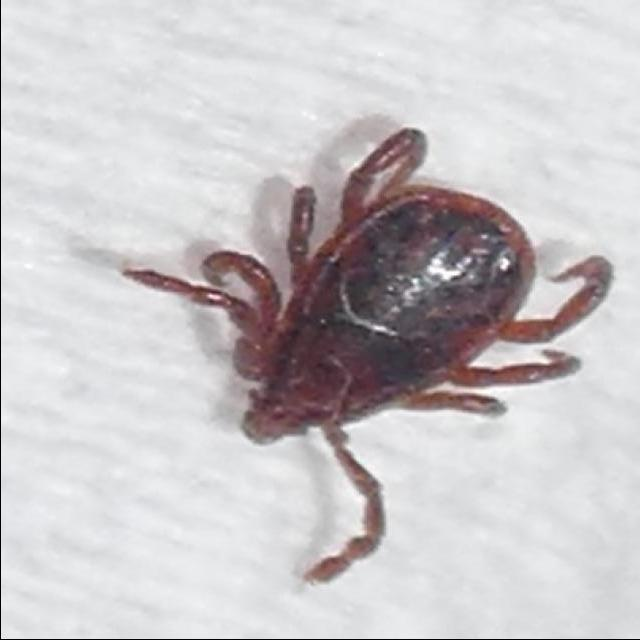Rhipicephalus Sanguineus-M: (120, 129, 615, 589)
